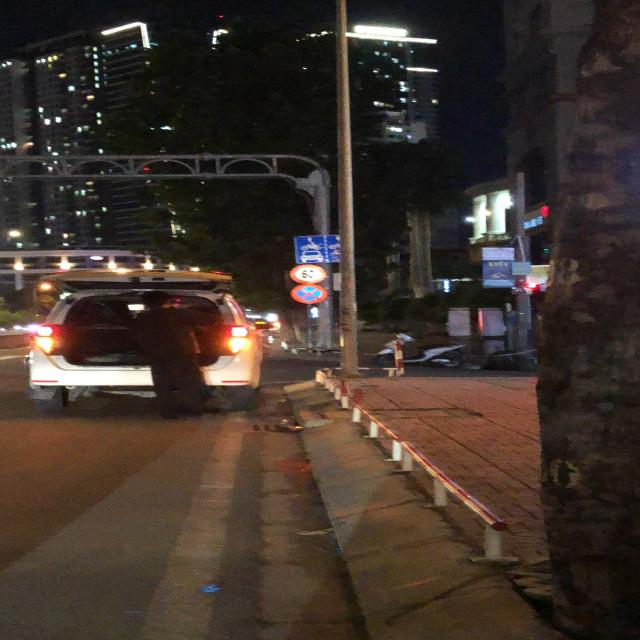Bien bao cam dung xe va do xe: (288, 284, 329, 304)
Bien bao toc do toi da cho phep: (288, 262, 328, 286)
